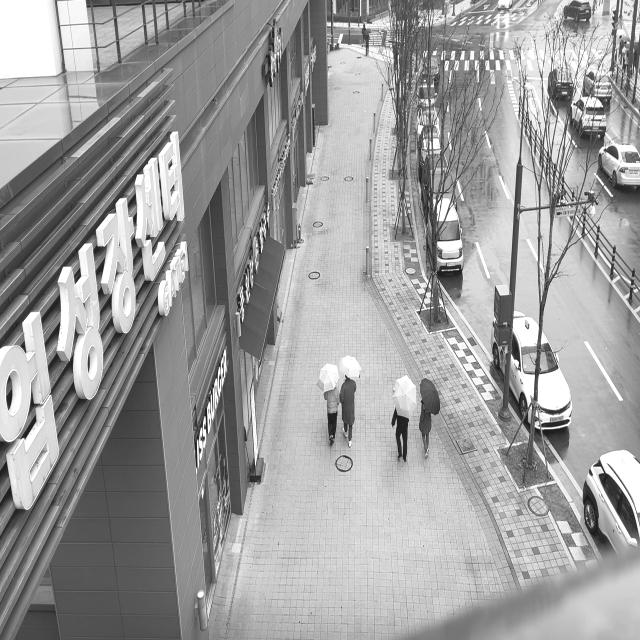Car: (490, 290, 580, 438), (577, 434, 640, 568), (422, 200, 472, 278), (599, 134, 640, 186), (420, 158, 460, 207), (571, 91, 608, 143), (546, 56, 578, 98), (583, 61, 617, 97), (554, 1, 594, 30), (417, 124, 446, 160), (418, 51, 442, 84), (415, 109, 442, 132), (417, 84, 436, 114)
